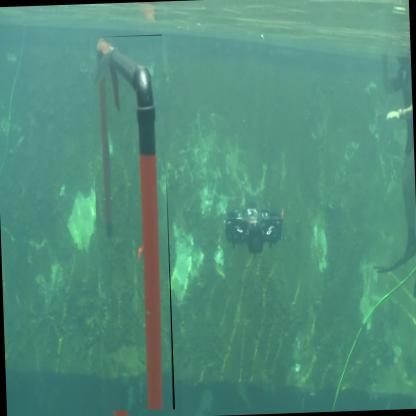gate: (91, 36, 177, 414)
